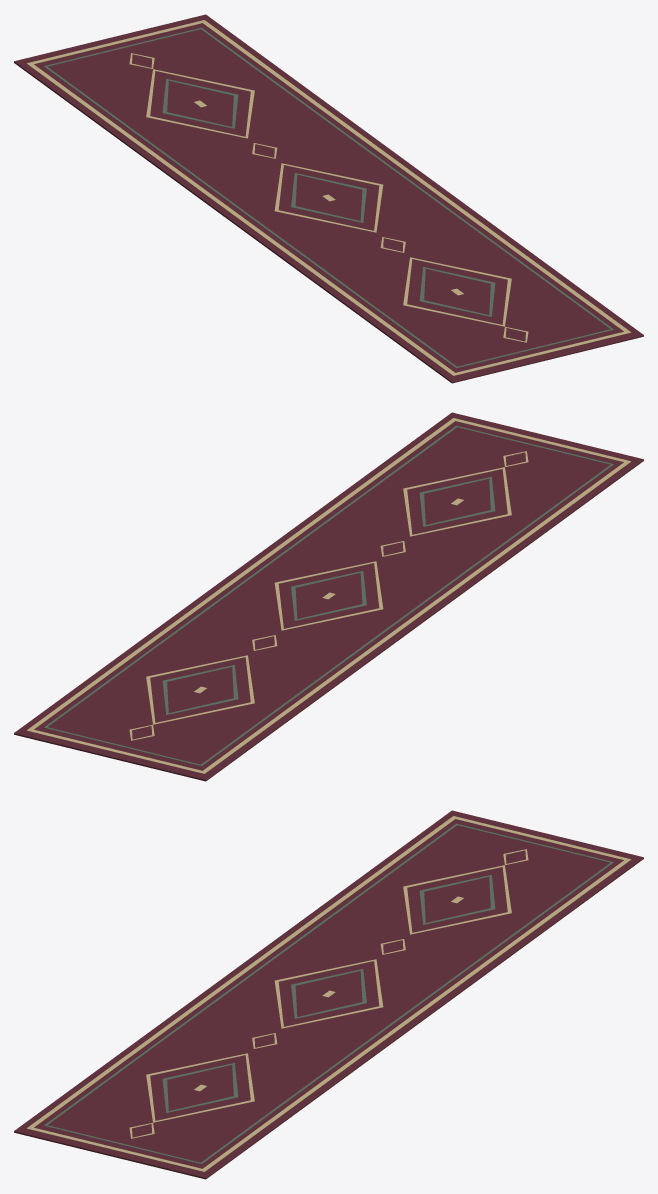
The model's file is rpg-mansion-narrow-hall-runner-01.glb.
3 renders of one model, top to bottom at view 1: azimuth 30°, elevation 25°; view 2: azimuth 150°, elevation 25°; view 3: azimuth 330°, elevation 25°, orthographic.
Parts seen in each view (by area): view 1: rpg-mansion-narrow-hall-runner-01; view 2: rpg-mansion-narrow-hall-runner-01; view 3: rpg-mansion-narrow-hall-runner-01.
Boxes of the visible parts, x1,y1,x2,y2 form: rpg-mansion-narrow-hall-runner-01: (14, 14, 643, 383); rpg-mansion-narrow-hall-runner-01: (14, 412, 643, 781); rpg-mansion-narrow-hall-runner-01: (14, 810, 643, 1179).
Size of the model in its own units: 0.76 by 0.0076 by 3.
